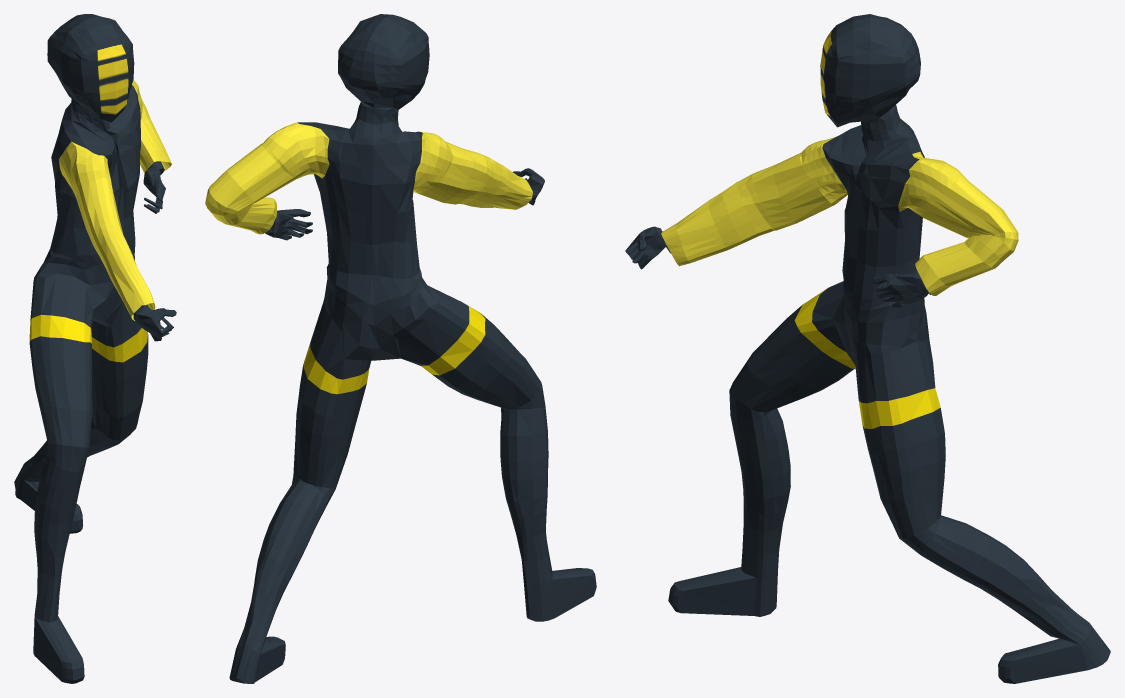
File: Sentry_WL_000012.obj
The picture shows the model from 3 angles, left to right: view 1: azimuth 30°, elevation 25°; view 2: azimuth 150°, elevation 25°; view 3: azimuth 270°, elevation 25°; orthographic projection. The views are drawn at different scales.
Parts seen in each view (by area): view 1: Cube; view 2: Cube; view 3: Cube.
Part boxes in pixels (<box>): Cube: <box>14,14,176,683</box>; Cube: <box>205,14,596,683</box>; Cube: <box>625,14,1110,683</box>.
Bounding box in the file's own units: 1.45 × 3.6 × 2.45.
